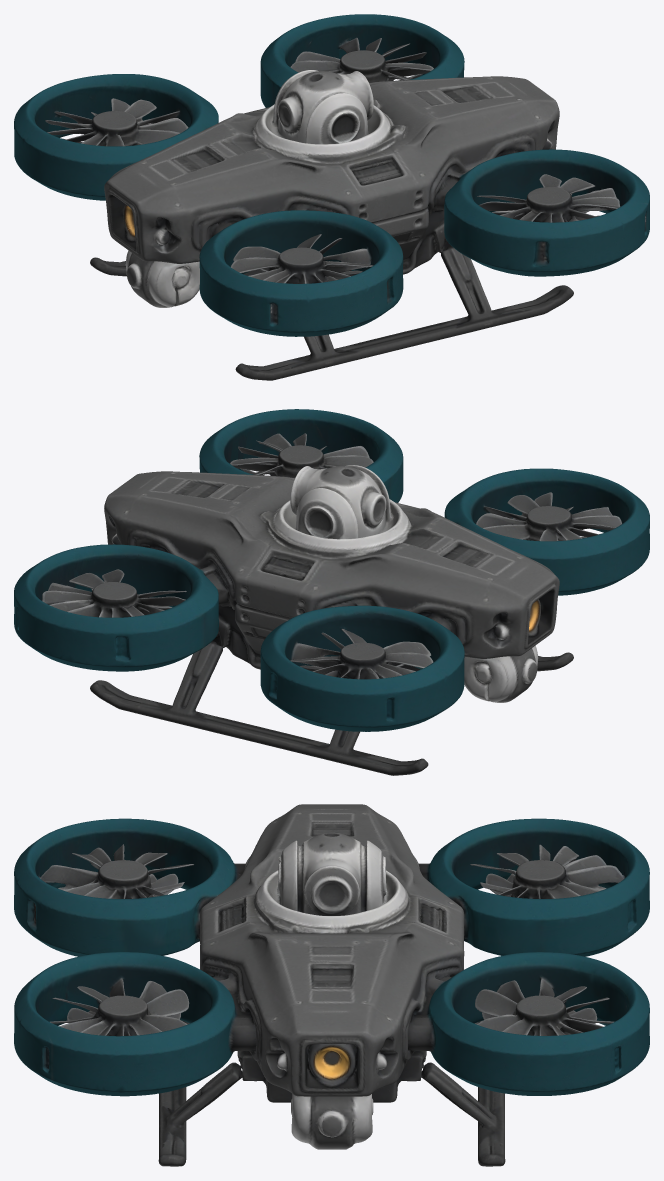
File: security_pursuit_drone_sentinel.glb
3 renders of one model, top to bottom at view 1: azimuth 30°, elevation 25°; view 2: azimuth 150°, elevation 25°; view 3: azimuth 270°, elevation 25°, orthographic. The views are drawn at different scales.
Size of the model in its own units: 1.63 by 0.8123 by 1.9.
1 material, 1 textured.
